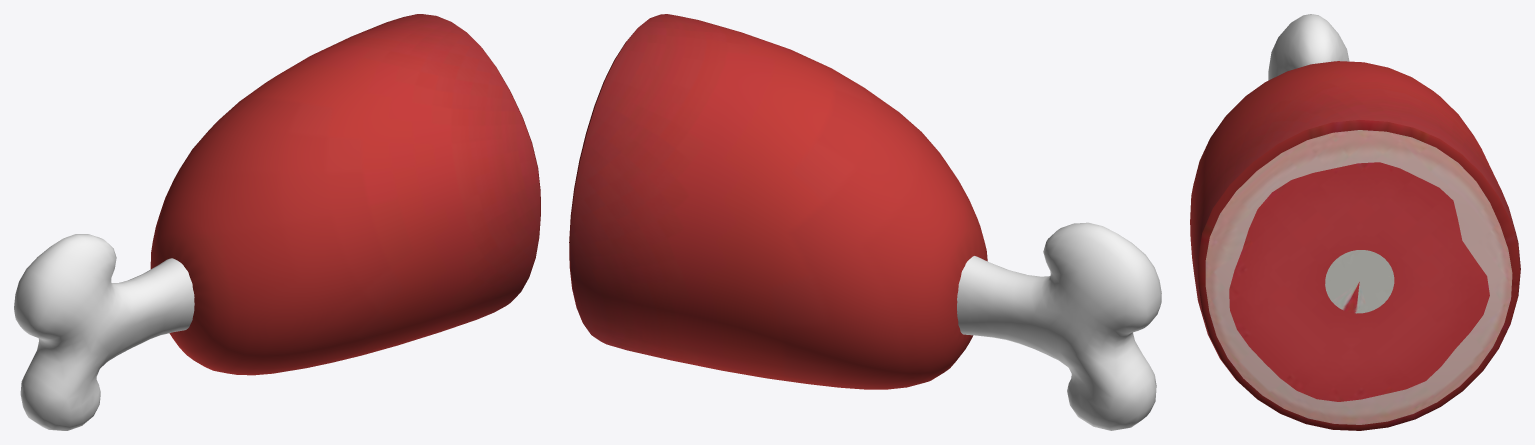
Rendered from meat 1.fbx.
The picture shows the model from 3 angles, left to right: view 1: azimuth 30°, elevation 25°; view 2: azimuth 150°, elevation 25°; view 3: azimuth 270°, elevation 25°; orthographic projection. The views are drawn at different scales.
Visible parts, largest first — view 1: Ham_Drumstick; view 2: Ham_Drumstick; view 3: Ham_Drumstick.
Boxes of the visible parts, bbox=[...] form: Ham_Drumstick: bbox=[14, 14, 540, 430]; Ham_Drumstick: bbox=[569, 14, 1161, 430]; Ham_Drumstick: bbox=[1190, 14, 1520, 430].
Bounding box in the file's own units: 625 × 367 × 347.
Materials: 1 (1 with a texture image).
